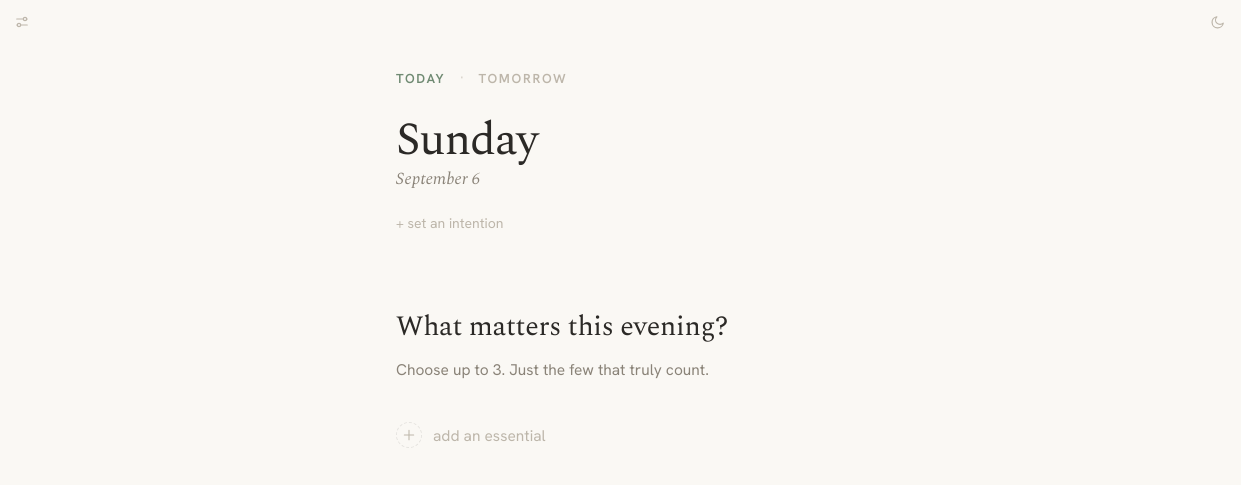
Test: Today / Tomorrow › keeps separate lists per view
Click the button "add an essential": [471, 435] box x1=396 y1=402 x2=546 y2=468
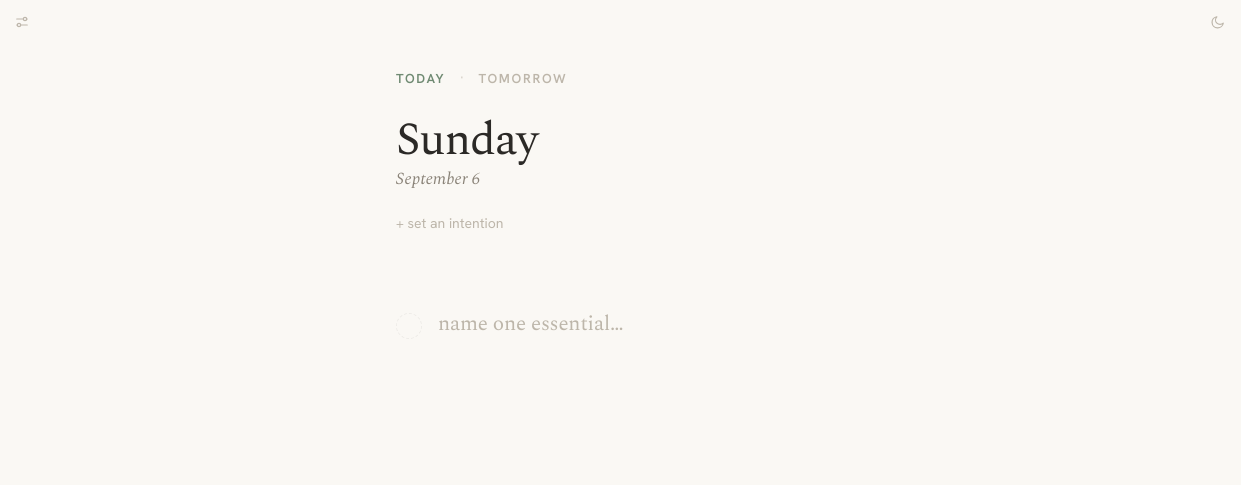
In the field named "New essential": [641, 325] box x1=438 y1=310 x2=844 y2=340, type "Today task"
Then press Enter
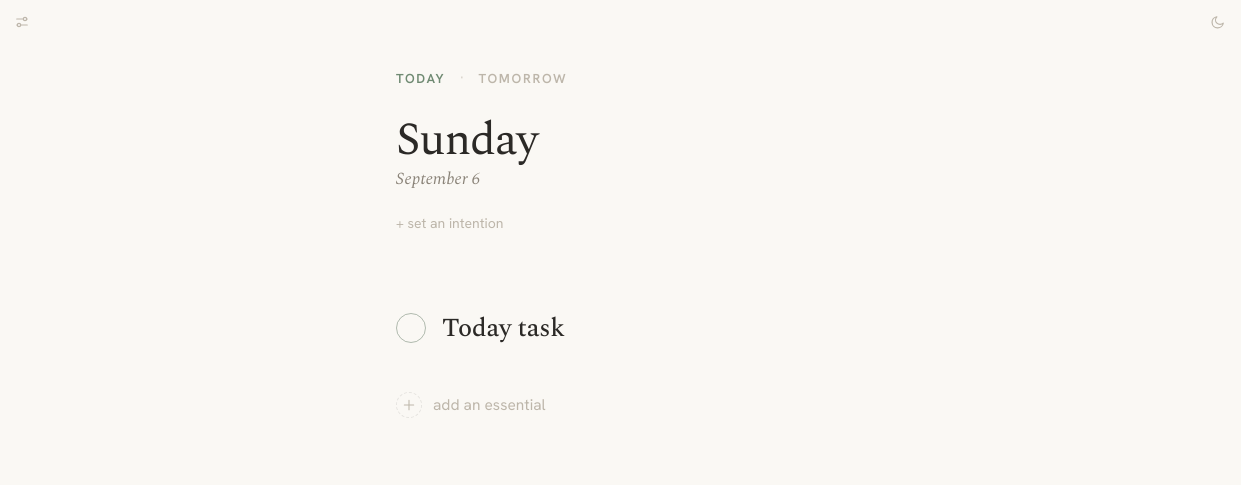
Click the button "Tomorrow": [523, 78] box x1=478 y1=69 x2=567 y2=88
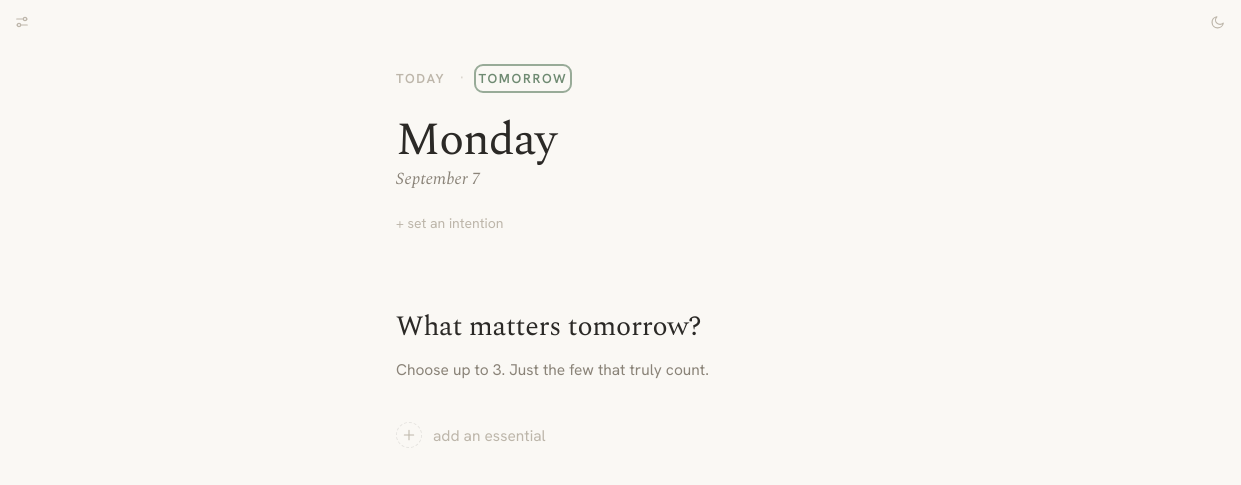
Check: the button "Today task" is gone
Check: the text "What matters tomorrow?" is shown, box x1=396 y1=305 x2=701 y2=348
Click the button "Today": [421, 78] box x1=396 y1=69 x2=445 y2=88
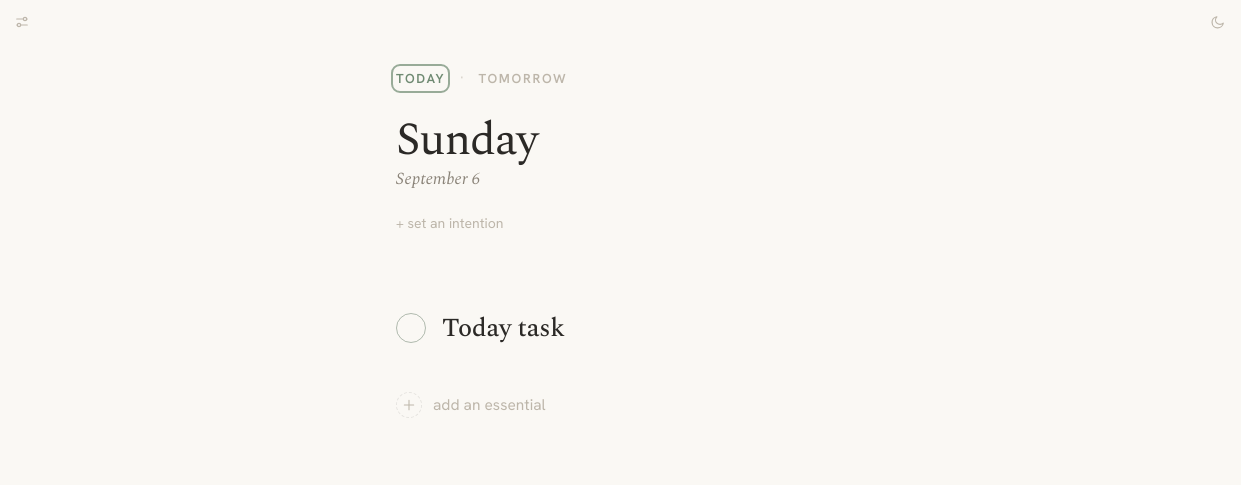
Check: the text "Today task" is shown, box x1=442 y1=310 x2=565 y2=346
